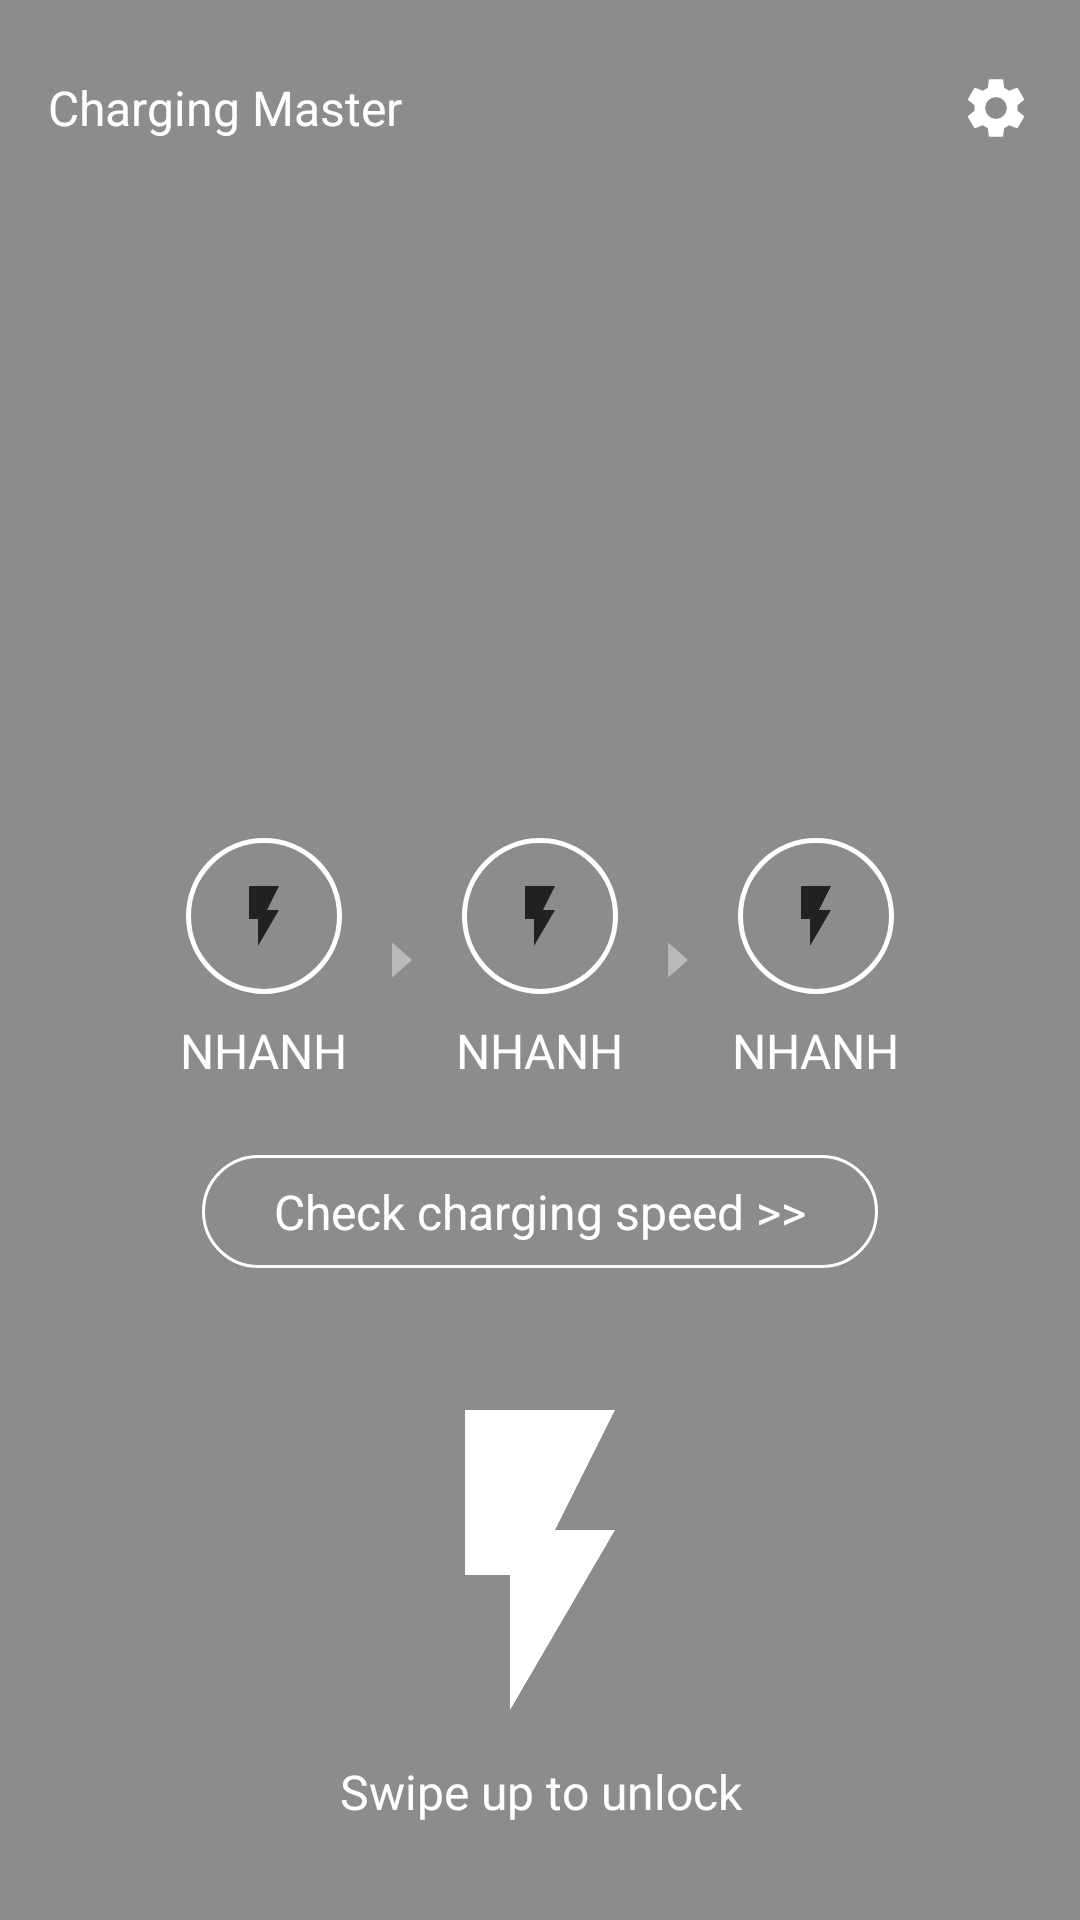

Icon bounding boxes for this 1080*1920 phone screenshot, format bbox=(x1, y1, x2, y2):
arrow right: bbox=(392, 943, 411, 977), bbox=(668, 943, 687, 977)
Settings: bbox=(968, 79, 1024, 137)
voltage: bbox=(465, 1410, 615, 1709)
